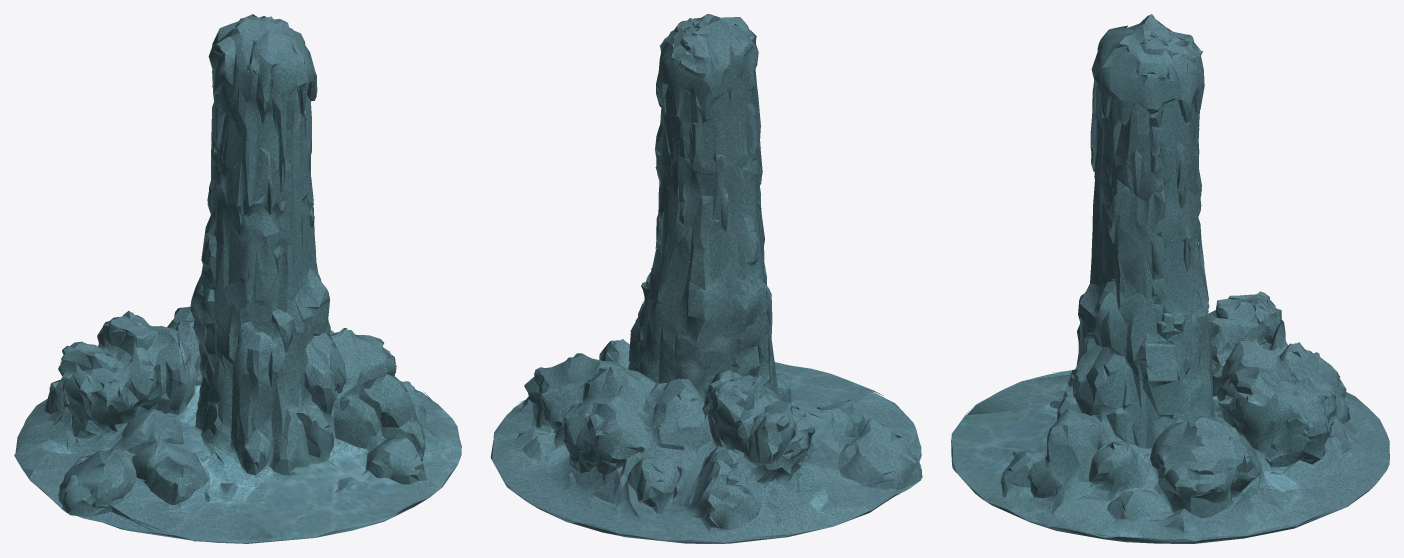
File: frozen_pillar.glb
3 renders of one model, left to right at view 1: azimuth 30°, elevation 25°; view 2: azimuth 150°, elevation 25°; view 3: azimuth 270°, elevation 25°, orthographic. The views are drawn at different scales.
Parts seen in each view (by area): view 1: Mesh_0; view 2: Mesh_0; view 3: Mesh_0.
Part boxes in pixels (box(x1,y1,x2,y2)): Mesh_0: box(14, 14, 461, 543); Mesh_0: box(491, 14, 922, 543); Mesh_0: box(951, 14, 1389, 543).
Bounding box in the file's own units: 3.83 × 4.2 × 3.8.
Materials: 1 (1 with a texture image).
